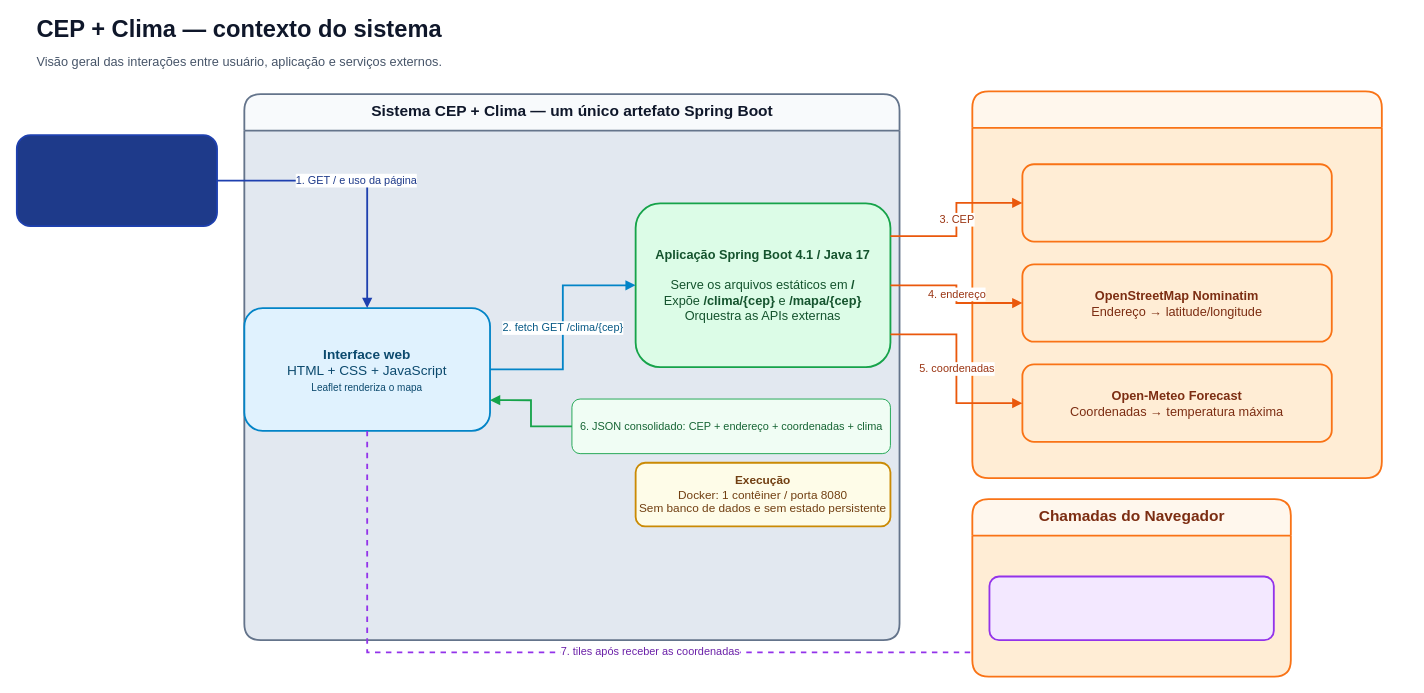
This 1424x693 diagram has some shape labels left out. Here are the shapes that lost their labels. From the top down, the box of each, then its label:
(15, 134, 217, 227): Usuário Consulta um CEP pelo navegador
(1021, 163, 1332, 242): ViaCEP CEP → endereço
(971, 90, 1382, 479): Chamadas do Backend
(988, 575, 1274, 641): OpenStreetMap Tile Server Tiles do mapa (chamada feita pelo navegador)
